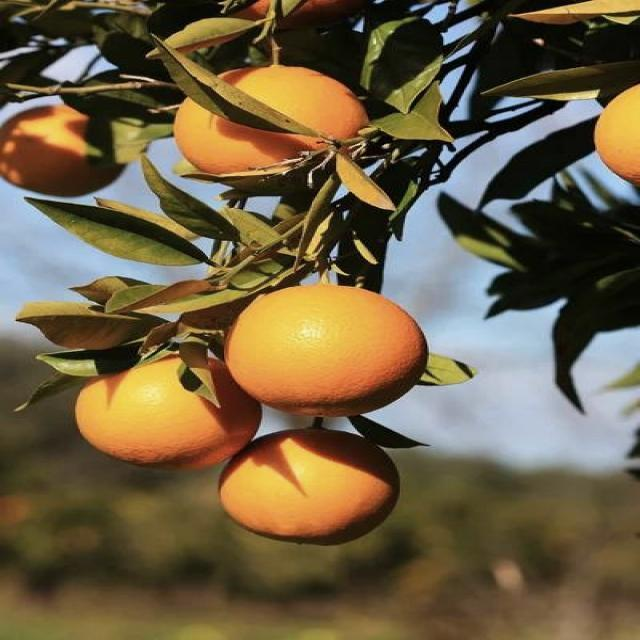Jeruk Sudah Matang: (222, 286, 429, 420), (174, 64, 370, 185), (74, 349, 266, 467), (214, 430, 410, 545), (0, 105, 131, 196), (592, 83, 640, 185), (244, 0, 366, 32)
